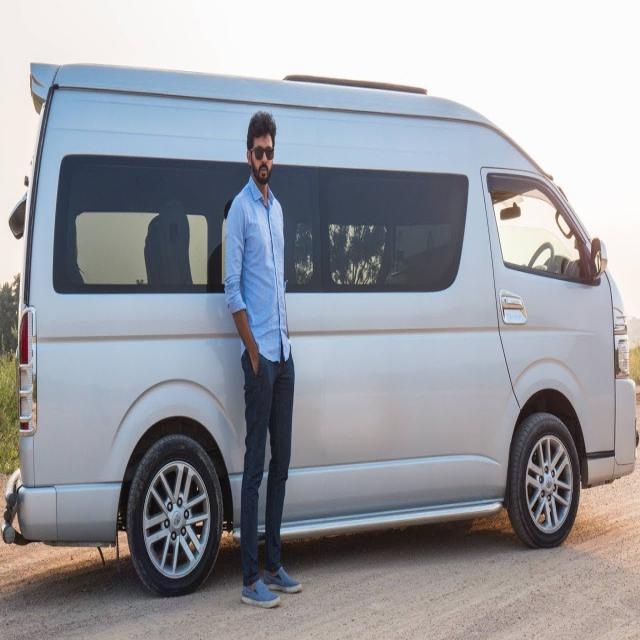bus: (2, 64, 638, 594)
